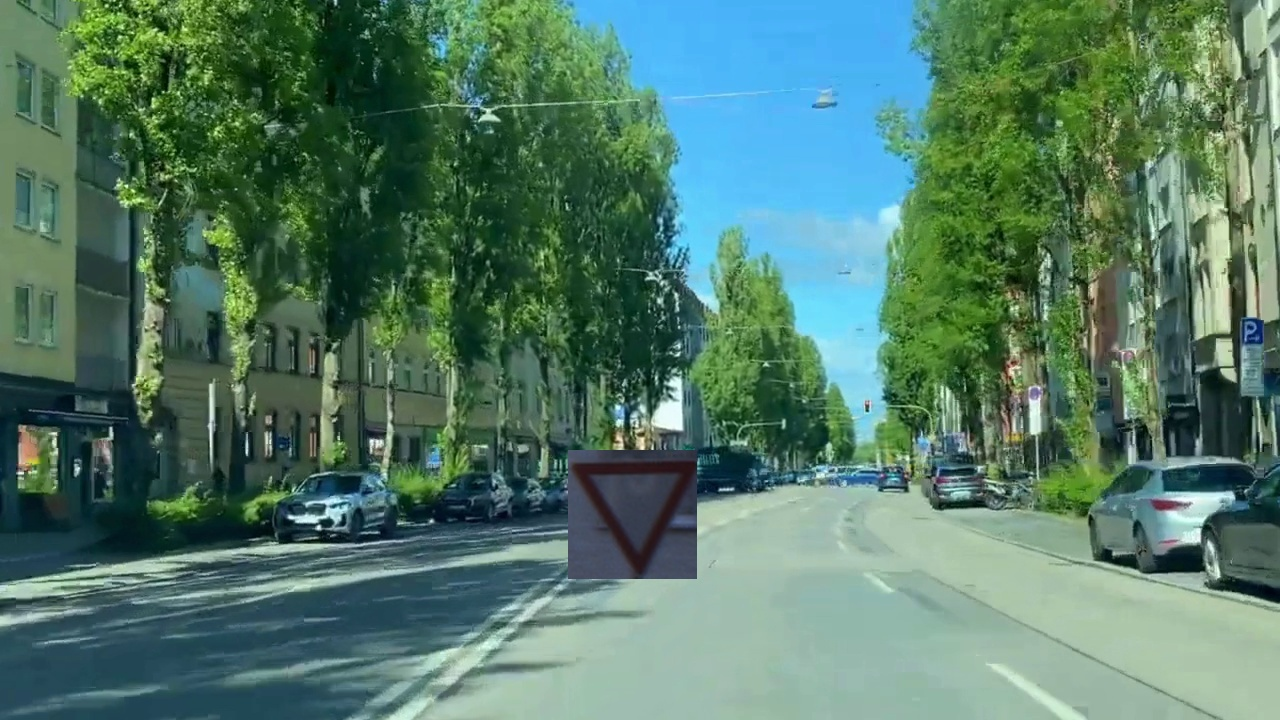Yield: (568, 450, 697, 579)
